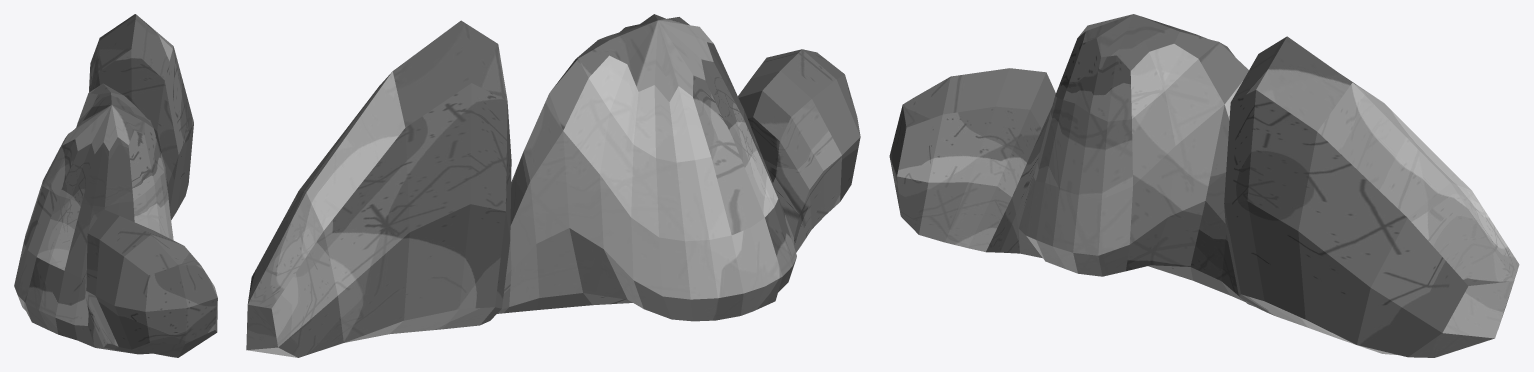
Rendered from Rock Formation 3.fbx.
The picture shows the model from 3 angles, left to right: view 1: azimuth 30°, elevation 25°; view 2: azimuth 150°, elevation 25°; view 3: azimuth 270°, elevation 25°; orthographic projection. The views are drawn at different scales.
Parts seen in each view (by area): view 1: Cylinder; view 2: Cylinder; view 3: Cylinder.
Part boxes in pixels (bbox=[...]): Cylinder: bbox=[14, 14, 217, 357]; Cylinder: bbox=[246, 14, 860, 357]; Cylinder: bbox=[889, 14, 1519, 357].
Size of the model in its own units: 328 by 269 by 533.
